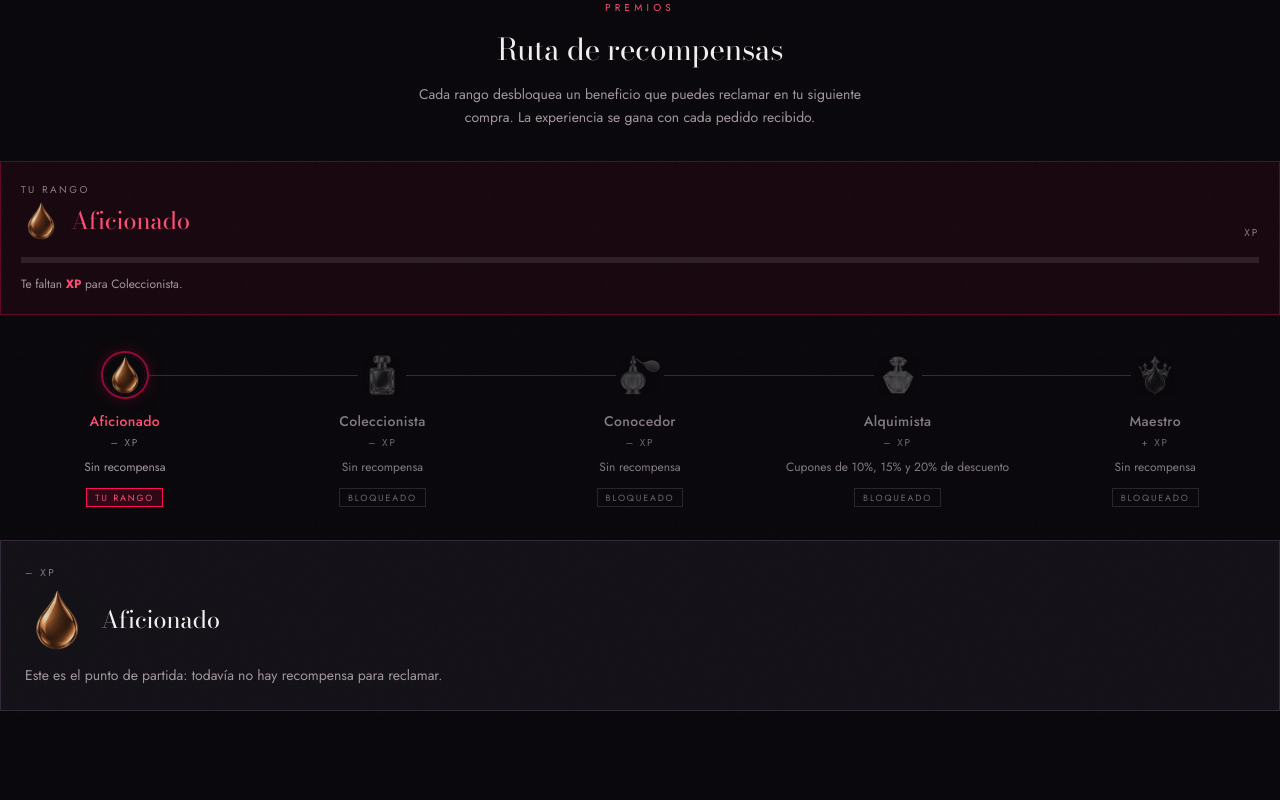
RewardsRoadmap — configuration from the database › lists every reward of a rank that hands out several
Expected: the text "Cupones de 10%, 15% y 20% de descuento" is shown, top-left (786, 458), bottom-right (1009, 478)
Step 1. Click the button that starts with "Alquimista" → [898, 431], box top-left (773, 355), bottom-right (1022, 508)
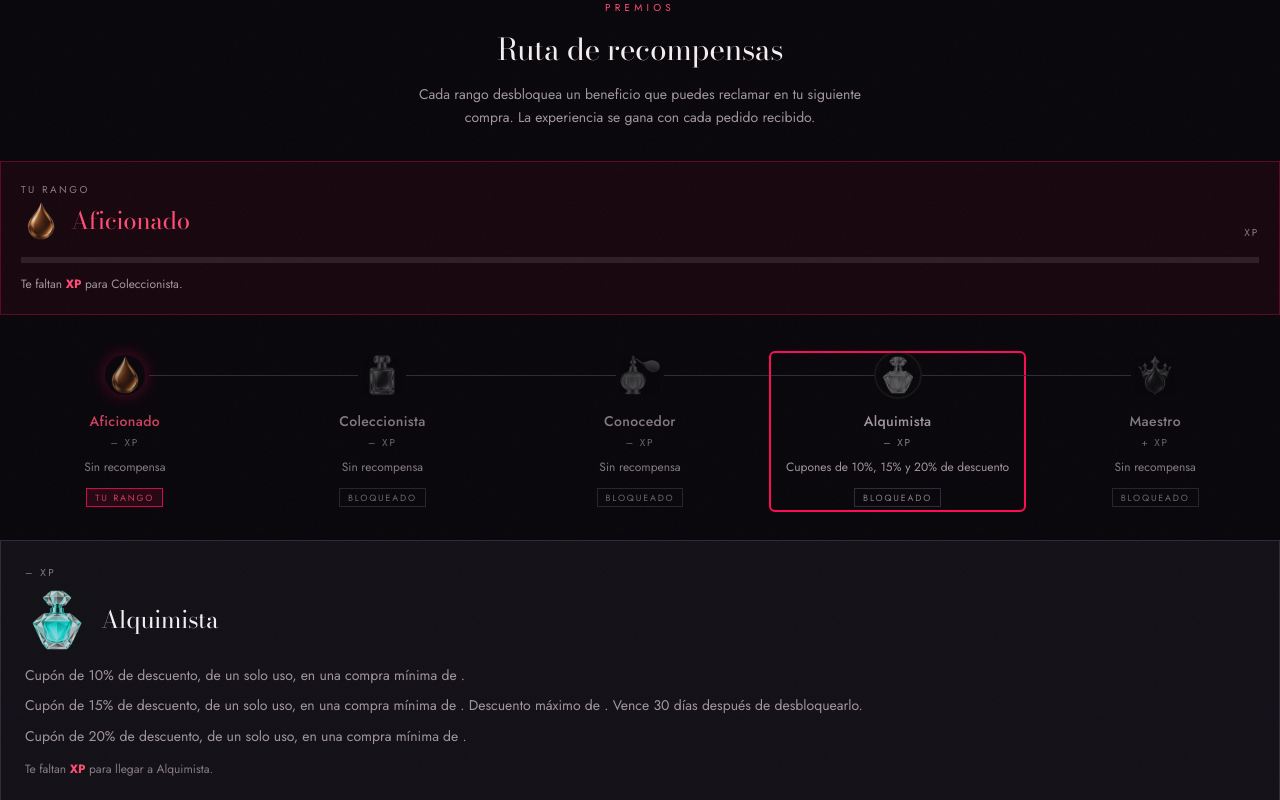
Expected: the 7th list item shows "15% de descuento", top-left (25, 695), bottom-right (863, 715)
Expected: the 7th list item shows "Descuento máximo de", top-left (25, 695), bottom-right (863, 715)
Expected: the 7th list item shows "Vence 30 días después", top-left (25, 695), bottom-right (863, 715)
